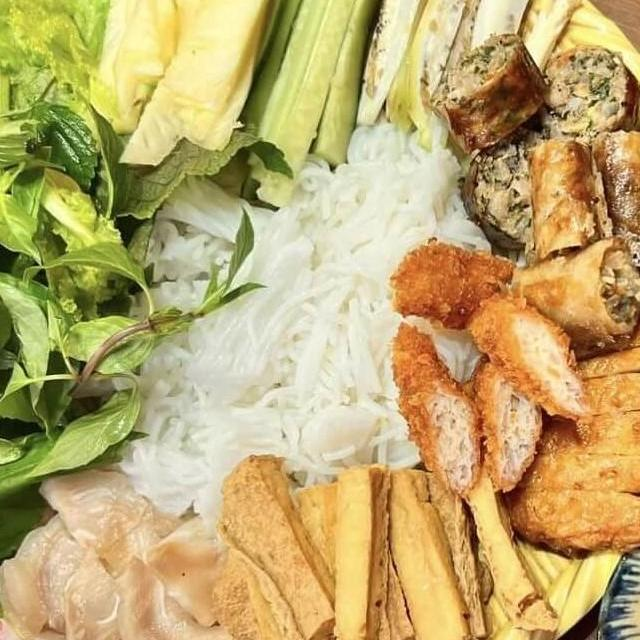bun: (79, 90, 504, 524)
bun dau: (0, 0, 640, 640)
cha com: (495, 300, 640, 572), (451, 287, 601, 502), (372, 317, 498, 503), (381, 230, 521, 334)
cha gio: (524, 122, 640, 350)
dau hu: (201, 450, 574, 640)
doi sun: (416, 25, 560, 164), (452, 126, 551, 255), (530, 40, 640, 147)
thit heo: (0, 456, 284, 640)
